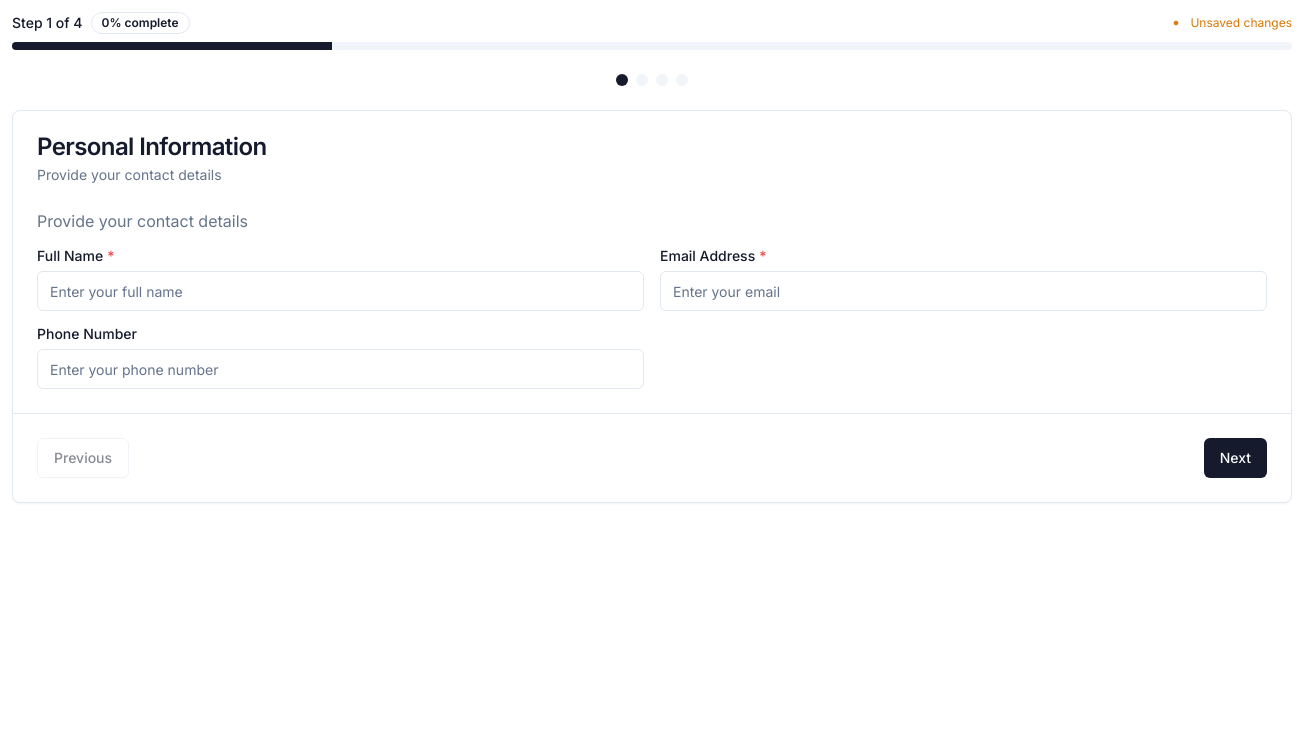
Test: DisclosureForm (Form Renderer) › validation › should show validation errors inline
# Fill in name but leave email empty
Type "John" into the field labelled "Full Name *".
click(340, 291); type("John")  # box [37,271,644,311]
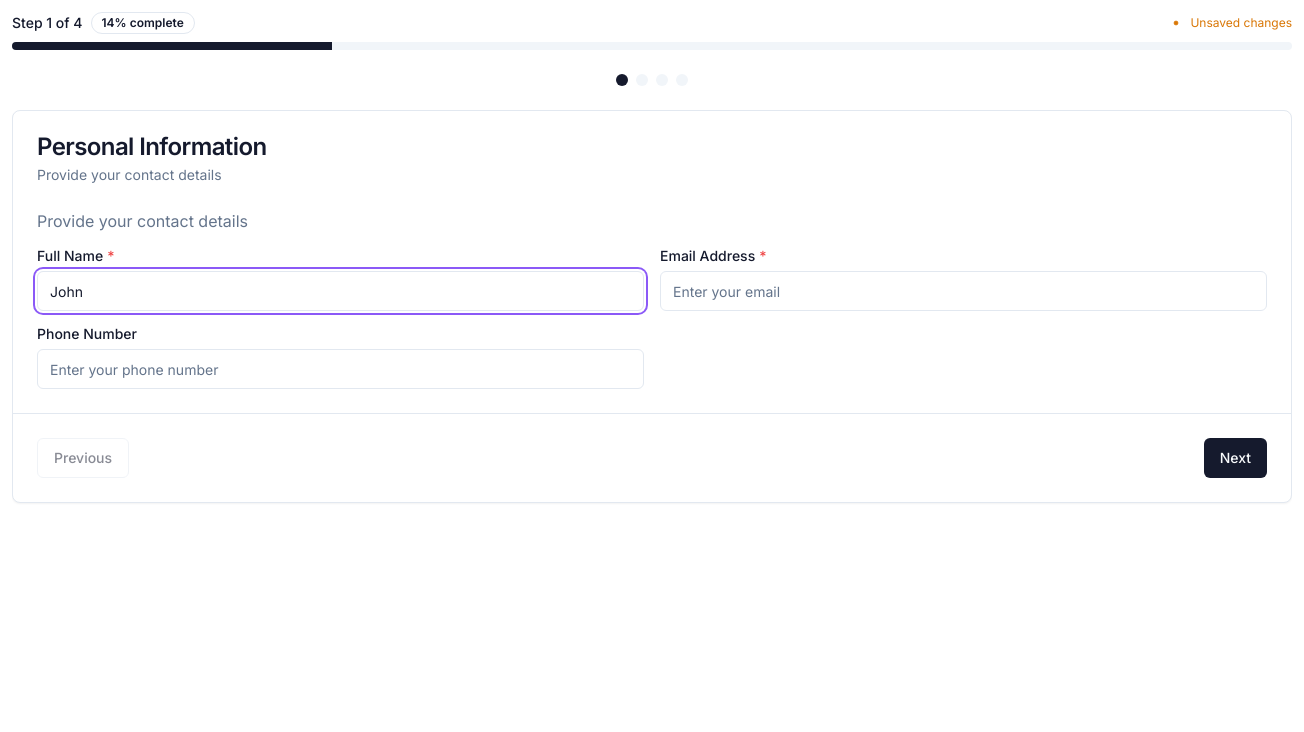
# Try to navigate
Click the button "Next".
click(1235, 458)  # box [1204,438,1267,478]
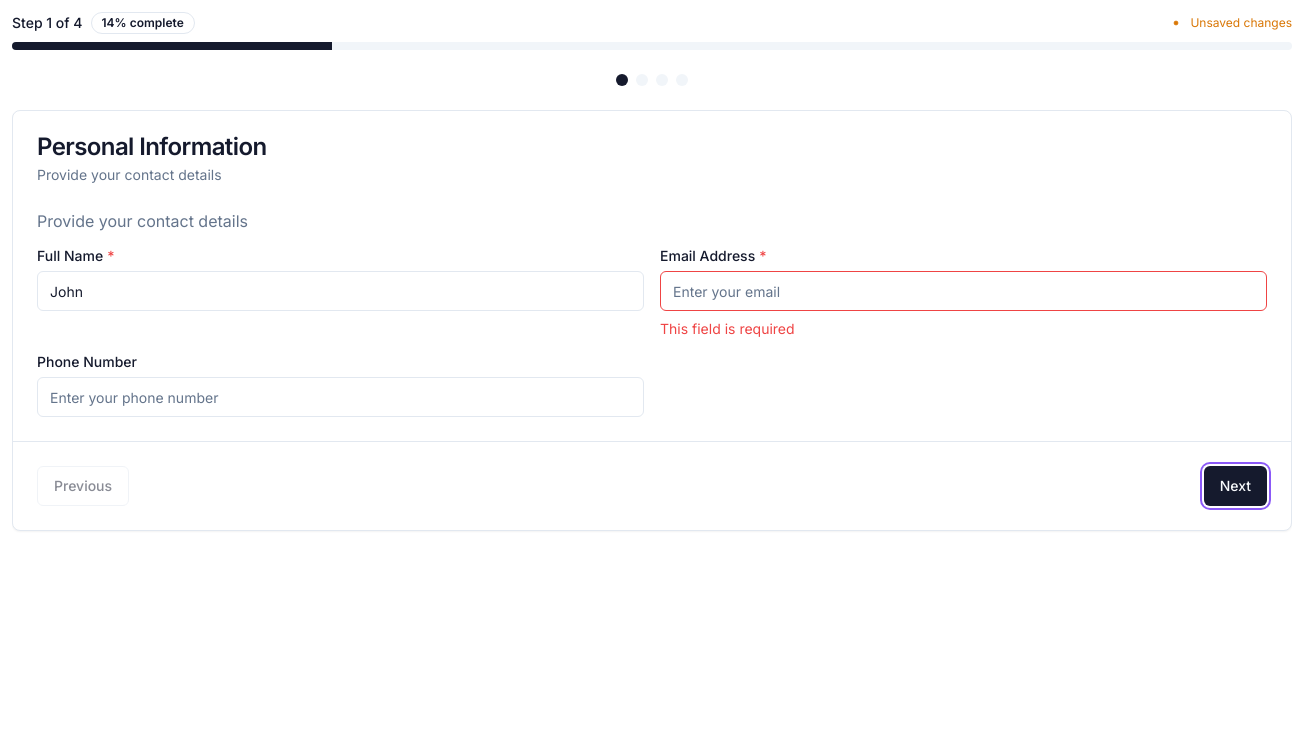
Now the text "This field is required" is shown, box [660,320,795,337]
